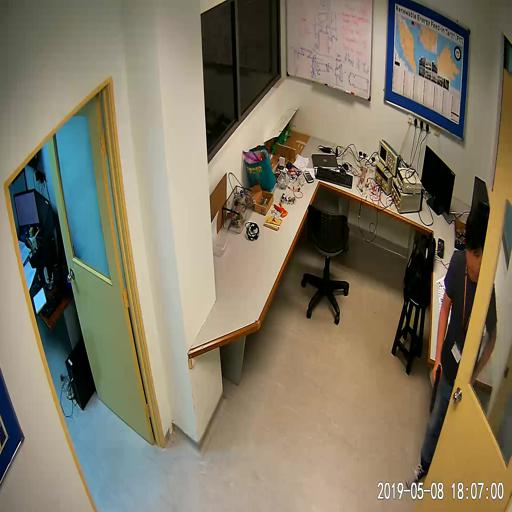pistol: (429, 361, 442, 413)
